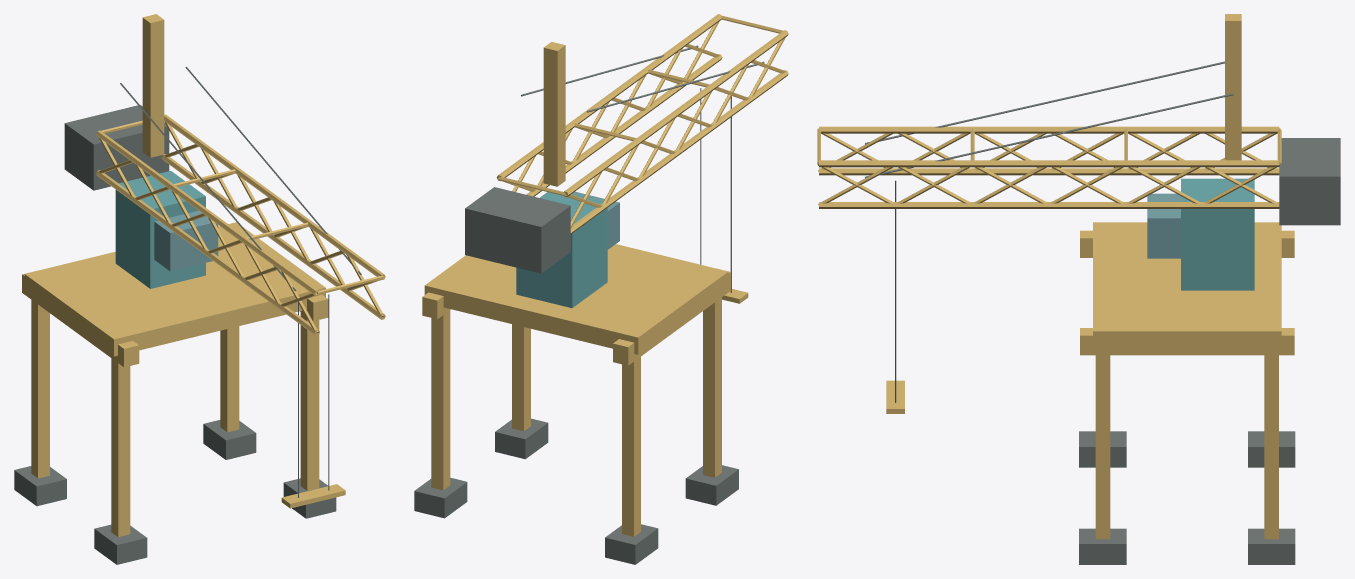
The picture shows the model from 3 angles, left to right: view 1: azimuth 30°, elevation 25°; view 2: azimuth 150°, elevation 25°; view 3: azimuth 270°, elevation 25°; orthographic projection. The views are drawn at different scales.
Size of the model in its own units: 17.4 by 35.3 by 34.11.
